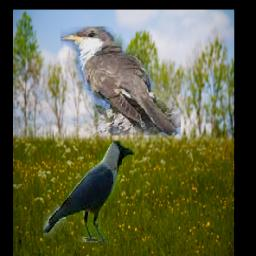Crow: (43, 141, 135, 242)
Cuckoo: (60, 28, 180, 136)
